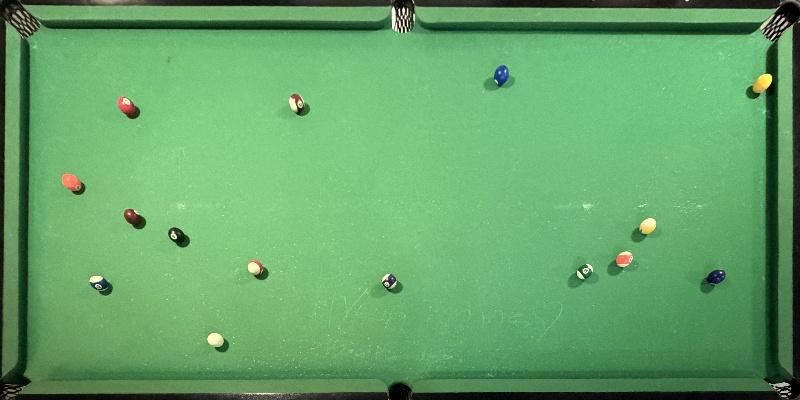bola: (86, 275, 113, 297), (751, 74, 775, 97), (244, 259, 269, 281), (614, 249, 636, 273), (58, 173, 84, 193), (286, 94, 308, 116), (574, 262, 598, 282), (114, 96, 137, 116), (204, 331, 227, 351), (378, 273, 401, 293), (166, 227, 188, 247), (491, 66, 511, 88), (636, 218, 658, 237), (707, 269, 728, 288), (121, 208, 142, 226)
